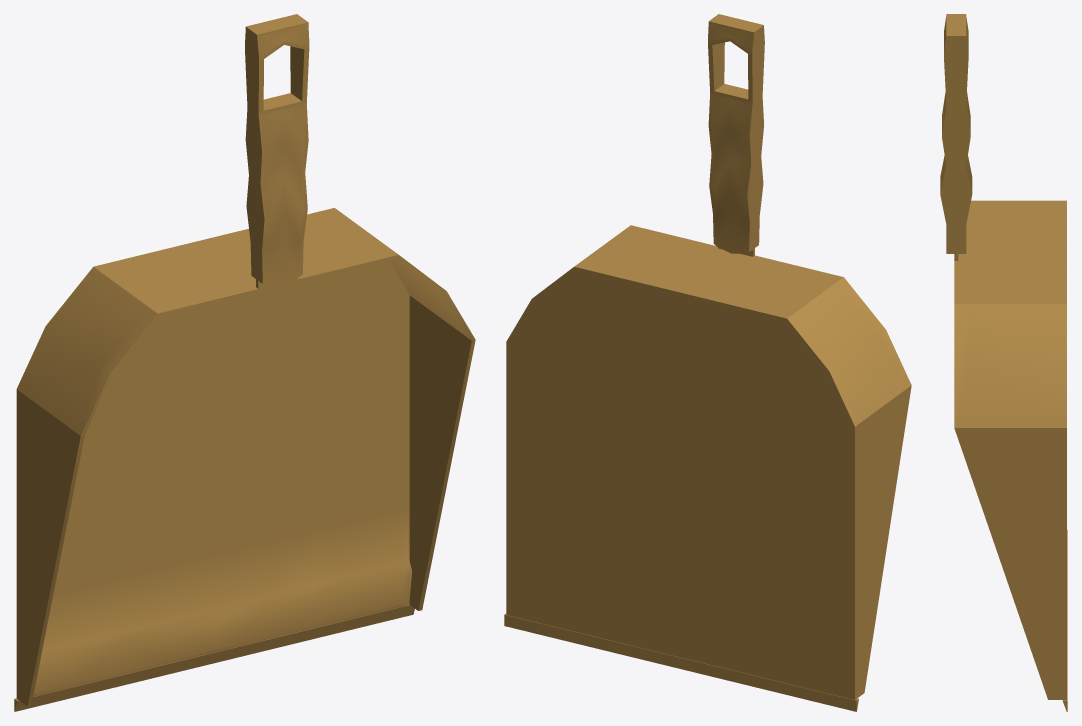
The model's file is paletta.fbx.
The picture shows the model from 3 angles, left to right: view 1: azimuth 30°, elevation 25°; view 2: azimuth 150°, elevation 25°; view 3: azimuth 270°, elevation 25°; orthographic projection. The views are drawn at different scales.
Visible parts, largest first — view 1: Object_80; view 2: Object_80; view 3: Object_80.
Boxes of the visible parts, x1,y1,x2,y2 form: Object_80: (14, 14, 475, 711); Object_80: (504, 14, 911, 711); Object_80: (940, 14, 1067, 711).
Size of the model in its own units: 20.21 by 33.15 by 6.36.
